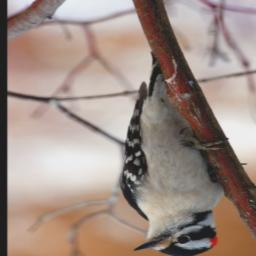Woodpecker: (121, 51, 231, 256)
